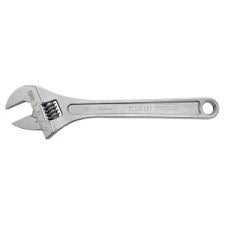wrench: (1, 79, 225, 143)
